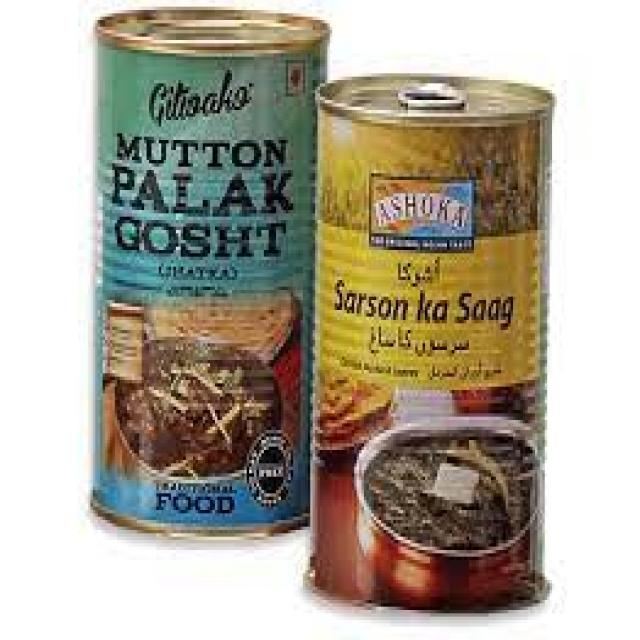metal-can: (302, 67, 561, 616), (89, 5, 333, 539)
